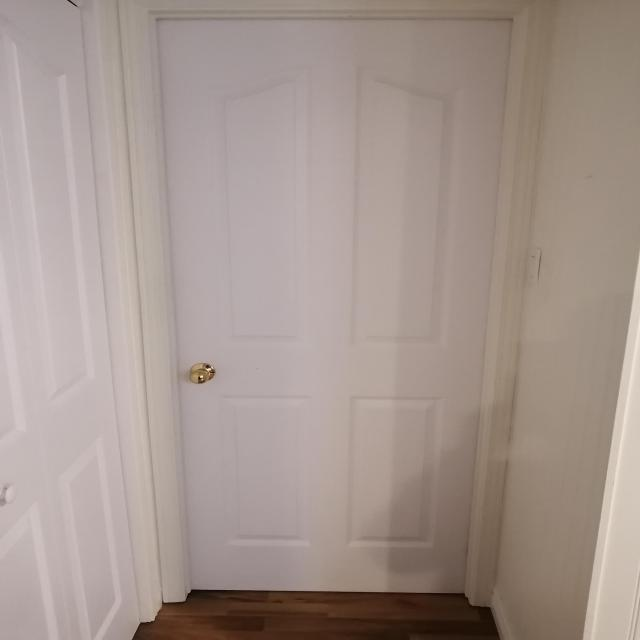door-knob: (190, 362, 215, 384)
